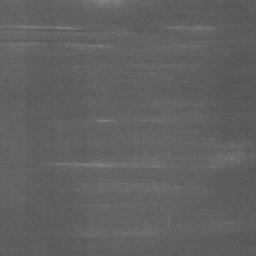Waist folding: (49, 155, 179, 207), (0, 23, 216, 51), (48, 114, 208, 125), (202, 140, 256, 171), (73, 230, 162, 240), (66, 0, 149, 10), (134, 59, 192, 70), (226, 232, 256, 235)
